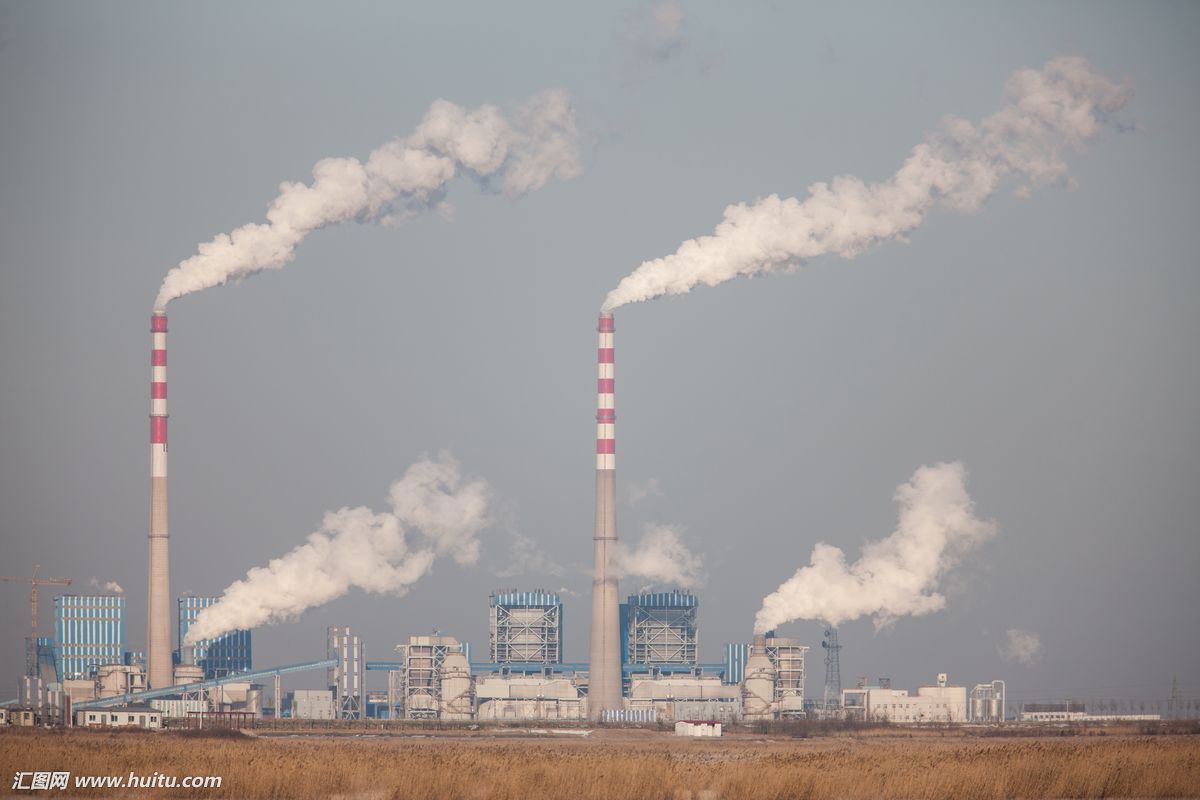dust: (131, 76, 581, 325), (582, 111, 1080, 318), (764, 459, 980, 636), (176, 522, 456, 646)
